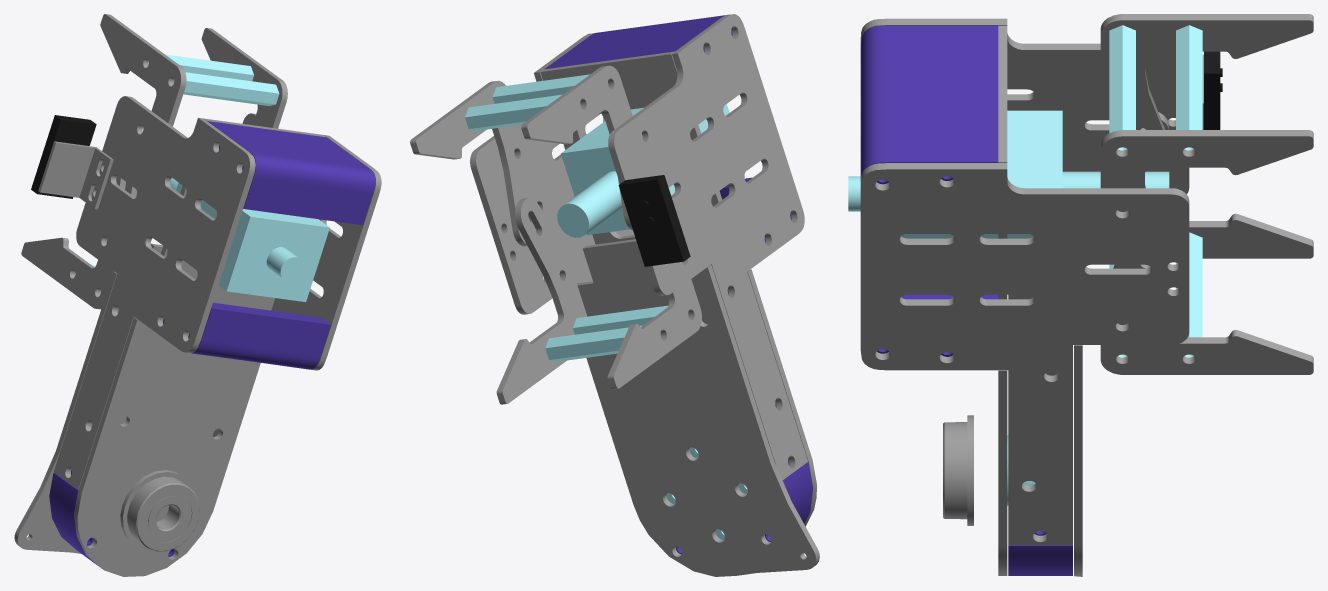
Rendered from Robot_3_Peeker.gltf.
The picture shows the model from 3 angles, left to right: view 1: azimuth 30°, elevation 25°; view 2: azimuth 150°, elevation 25°; view 3: azimuth 270°, elevation 25°; orthographic projection. The views are drawn at different scales.
Visible parts, largest first — view 1: StaticMesh1; view 2: StaticMesh1; view 3: StaticMesh1.
Boxes of the visible parts, x1=… form: StaticMesh1: x1=14, y1=14, x2=381, y2=576; StaticMesh1: x1=410, y1=14, x2=819, y2=576; StaticMesh1: x1=848, y1=14, x2=1313, y2=576.
Size of the model in its own units: 9.83 by 14.97 by 10.48.
